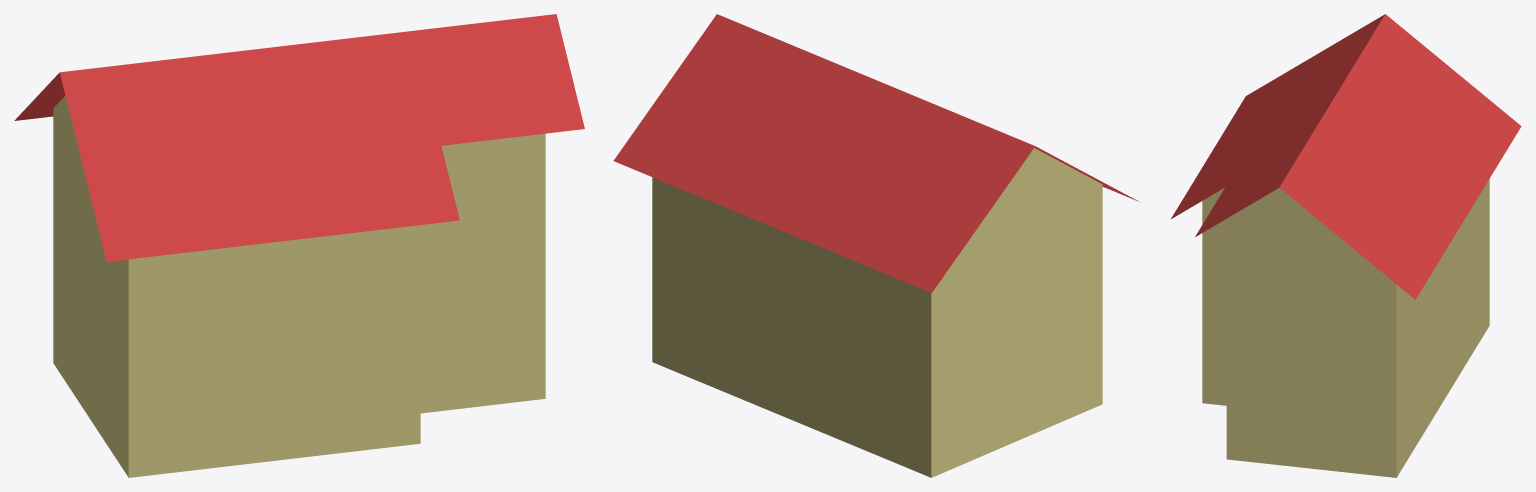
The picture shows the model from 3 angles, left to right: view 1: azimuth 30°, elevation 25°; view 2: azimuth 150°, elevation 25°; view 3: azimuth 270°, elevation 25°; orthographic projection. The views are drawn at different scales.
Size of the model in its own units: 18.36 by 13.37 by 12.14.
